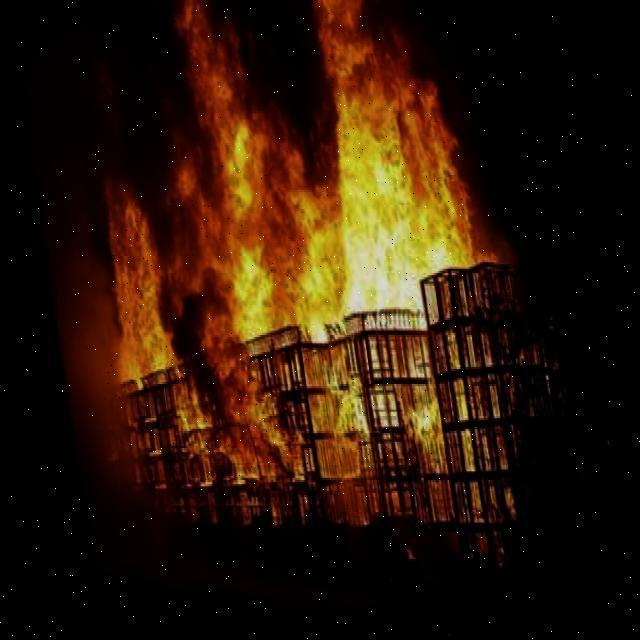Fire: (73, 4, 540, 525)
